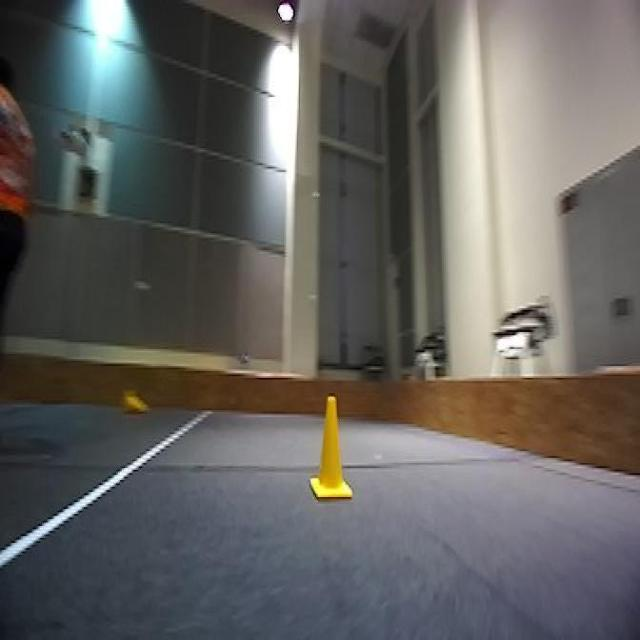frc_cone: (311, 395, 354, 507), (116, 385, 150, 417)
